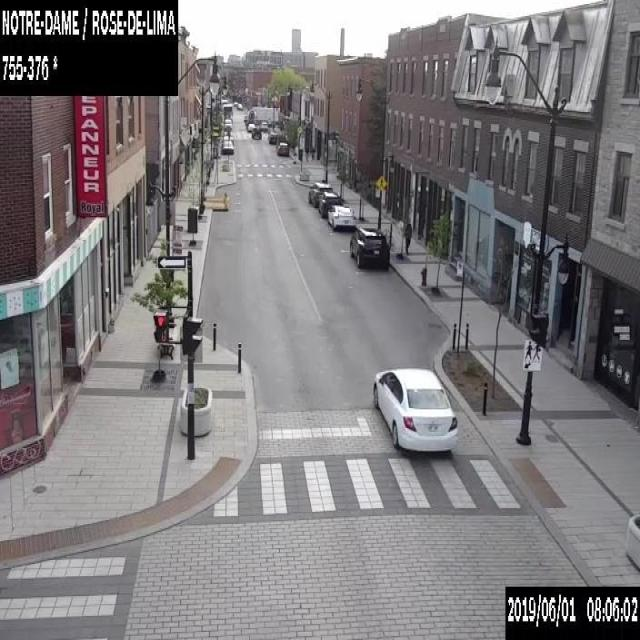pedestrian: (404, 220, 412, 255)
vehicle: (372, 367, 458, 453), (349, 226, 389, 267), (327, 204, 356, 230), (243, 106, 279, 126), (307, 181, 332, 205), (318, 190, 340, 217), (223, 104, 232, 129), (276, 141, 288, 155), (221, 140, 233, 154), (251, 126, 261, 138), (268, 131, 277, 144), (222, 131, 232, 142), (261, 121, 267, 131), (247, 122, 254, 130), (236, 103, 242, 108), (233, 101, 237, 105)
